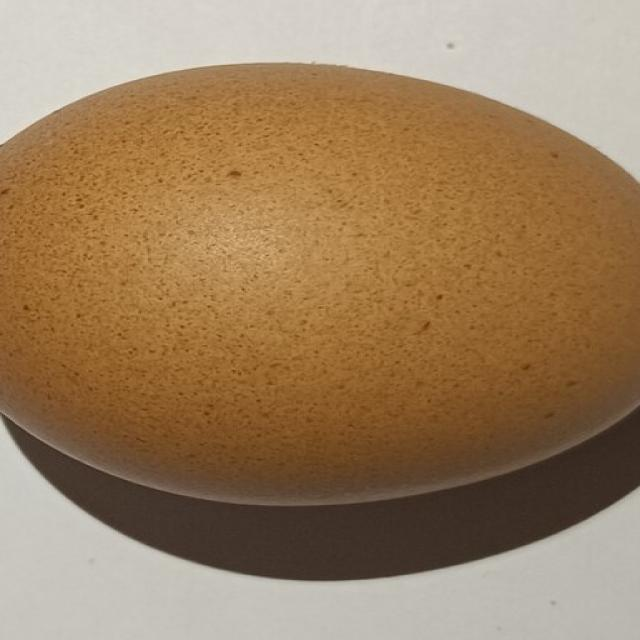unfresh: (0, 61, 640, 505)
